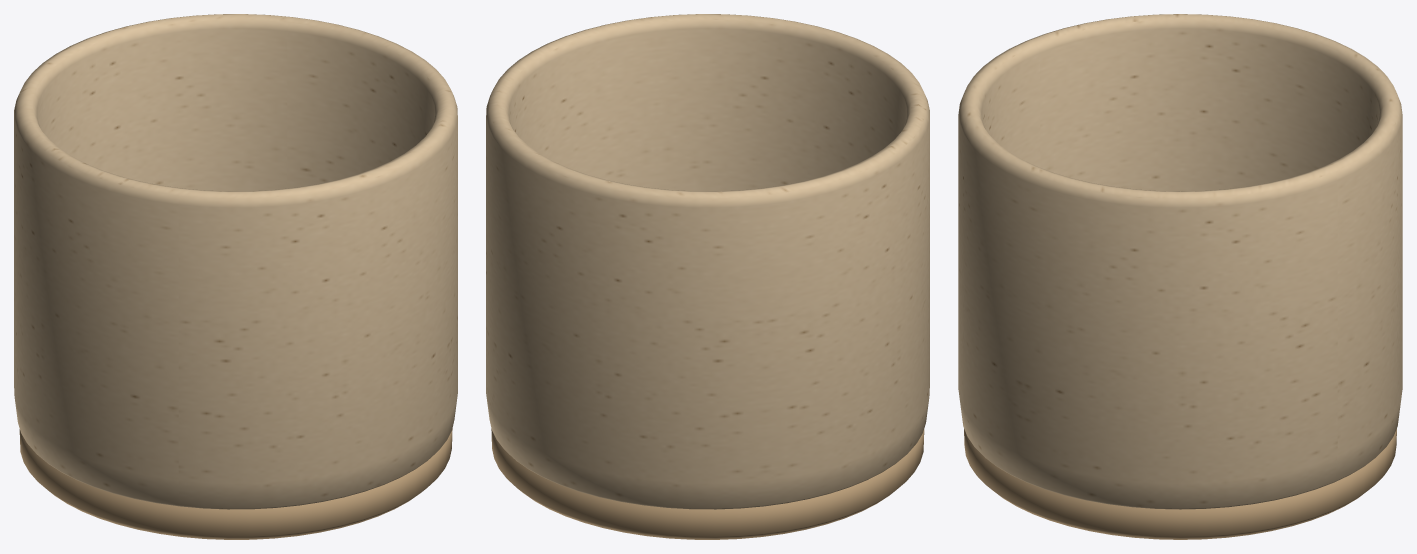
File: tumbler.glb
3 views of the same model, side by side, from view 1: azimuth 30°, elevation 25°; view 2: azimuth 150°, elevation 25°; view 3: azimuth 270°, elevation 25° (orthographic).
Parts seen in each view (by area): view 1: tumbler; view 2: tumbler; view 3: tumbler.
Boxes of the visible parts, x1,y1,x2,y2 form: tumbler: (14, 14, 457, 539); tumbler: (486, 14, 929, 539); tumbler: (958, 14, 1402, 539).
Size of the model in its own units: 0.052 by 0.045 by 0.052.
2 materials, 1 textured.
